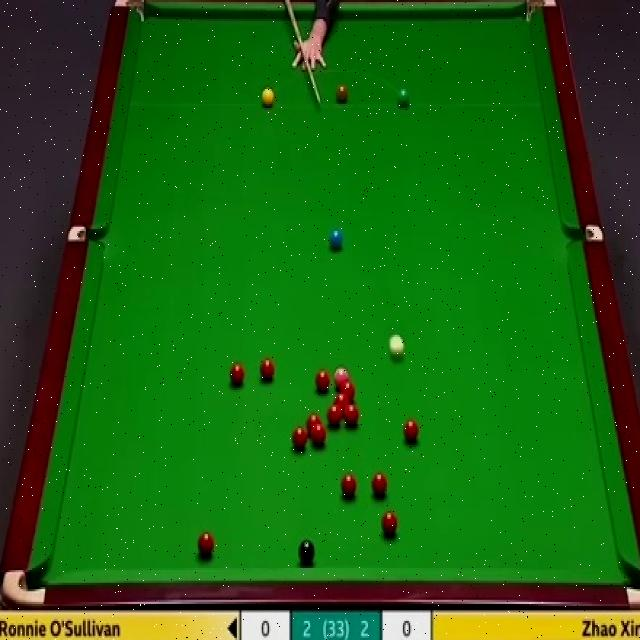black-ball: (298, 536, 315, 566)
blue-ball: (328, 227, 343, 253)
brown-ball: (335, 85, 348, 104)
green-ball: (398, 87, 410, 108)
pink-ball: (334, 366, 350, 385)
red-ball: (197, 532, 216, 558), (380, 511, 398, 538), (314, 368, 332, 395), (404, 420, 421, 443), (341, 474, 358, 497), (371, 473, 387, 497), (312, 423, 328, 446), (259, 358, 274, 382), (292, 426, 308, 448), (230, 362, 244, 386), (344, 404, 360, 425), (326, 406, 342, 424), (306, 411, 321, 430), (332, 393, 351, 407), (339, 382, 358, 394)
white-ball: (389, 336, 404, 360)
yellow-ball: (260, 86, 276, 108)
